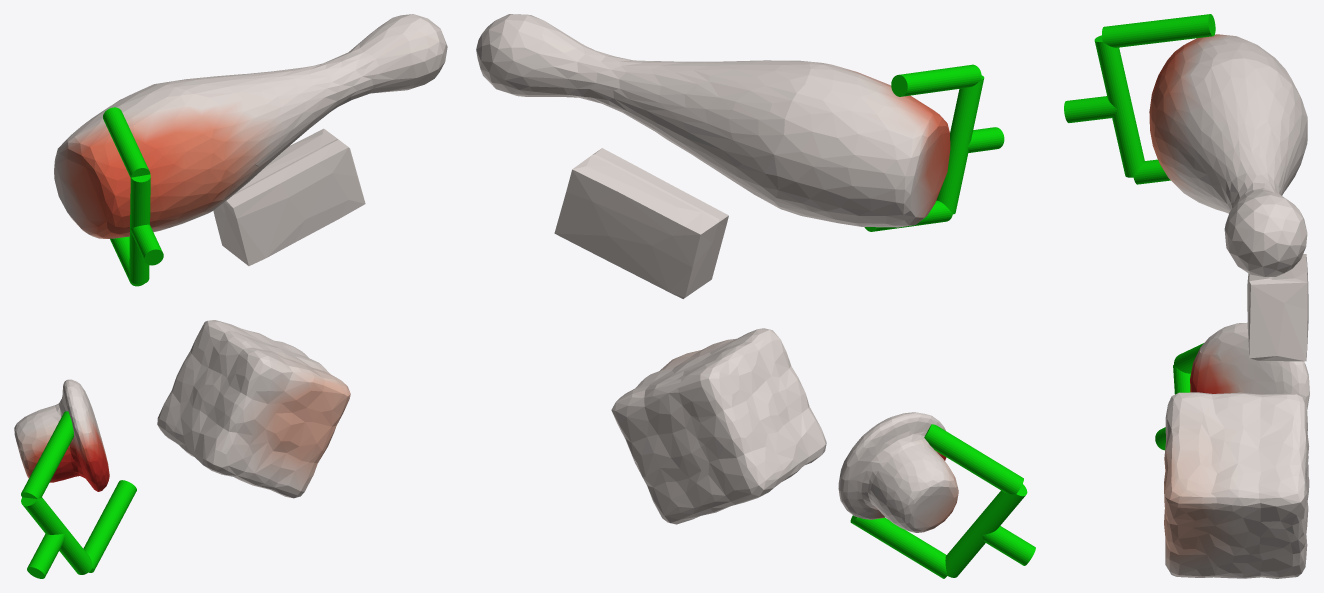
Rendered from round_000_trial_000.obj.
3 views of the same model, side by side, from view 1: azimuth 30°, elevation 25°; view 2: azimuth 150°, elevation 25°; view 3: azimuth 270°, elevation 25° (orthographic). The views are drawn at different scales.
Visible parts, largest first — view 1: geometry_0, geometry_1, geometry_2; view 2: geometry_0, geometry_1, geometry_2; view 3: geometry_0, geometry_2, geometry_1.
Part boxes in pixels (x1,y1,x2,y2): geometry_0: (14, 14, 447, 498); geometry_1: (21, 411, 136, 578); geometry_2: (103, 107, 163, 286); geometry_0: (476, 14, 958, 532); geometry_1: (850, 424, 1035, 578); geometry_2: (864, 64, 1004, 231); geometry_0: (1149, 34, 1309, 578); geometry_2: (1064, 14, 1215, 184); geometry_1: (1155, 343, 1203, 450).
Bounding box in the file's own units: 0.2627 × 0.2481 × 0.1094.
